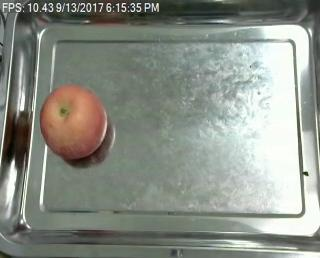apple: (40, 86, 109, 161)
